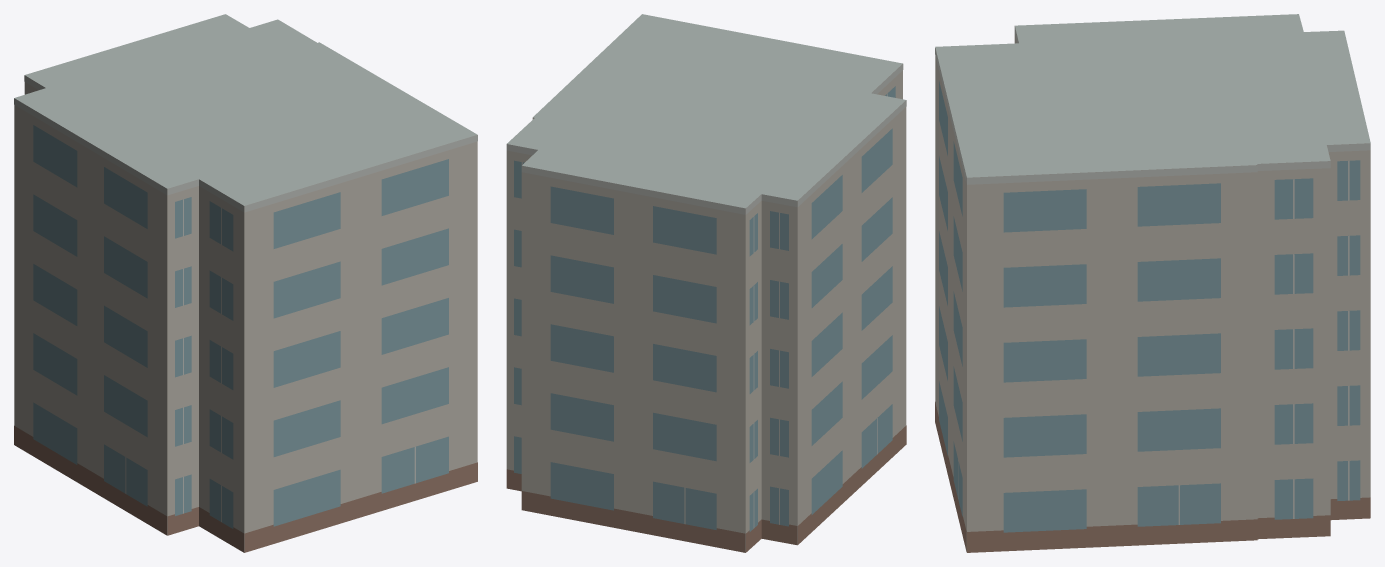
Rendered from survey-upis-32663335.glb.
The picture shows the model from 3 angles, left to right: view 1: azimuth 30°, elevation 25°; view 2: azimuth 150°, elevation 25°; view 3: azimuth 270°, elevation 25°; orthographic projection. The views are drawn at different scales.
Parts seen in each view (by area): view 1: survey-upis-32663335.tmp; view 2: survey-upis-32663335.tmp; view 3: survey-upis-32663335.tmp.
Boxes of the visible parts, x1,y1,x2,y2 form: survey-upis-32663335.tmp: [14, 14, 477, 552]; survey-upis-32663335.tmp: [506, 14, 906, 552]; survey-upis-32663335.tmp: [935, 14, 1370, 552].
Size of the model in its own units: 11.99 by 12.8 by 13.48.
